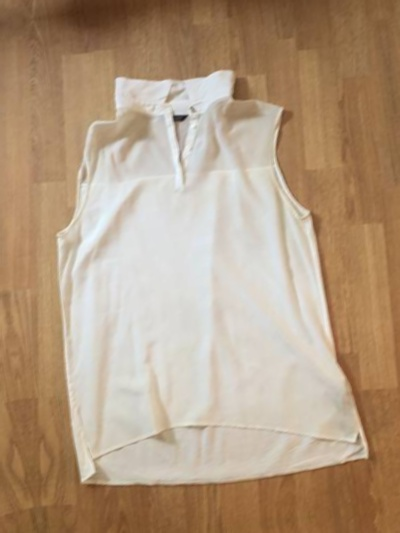Blouse: (11, 30, 400, 524), (87, 530, 400, 533), (0, 93, 2, 533)
